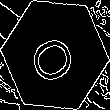O_NE: (26, 25, 84, 85)
